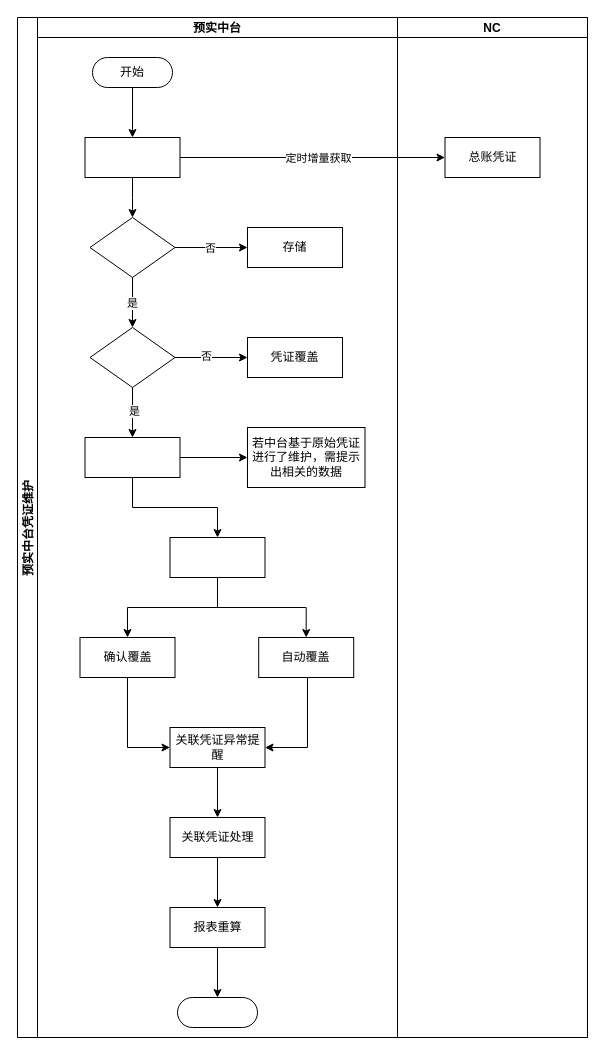
The diagram is 605 pixels wide and 1055 high, and some of its shapes have lost their labels. The shapes that lost their labels are listed below. From the top down, each one's centre as x and y in pixels, then its label:
[132,157]: NC总账凭证获取
[132,247]: 预实中台是否存在此凭证
[132,357]: 凭证核心数据是否发生变化
[132,457]: 创建消息提醒：凭证变更
[217,557]: 用户处理
[217,1012]: 结束
